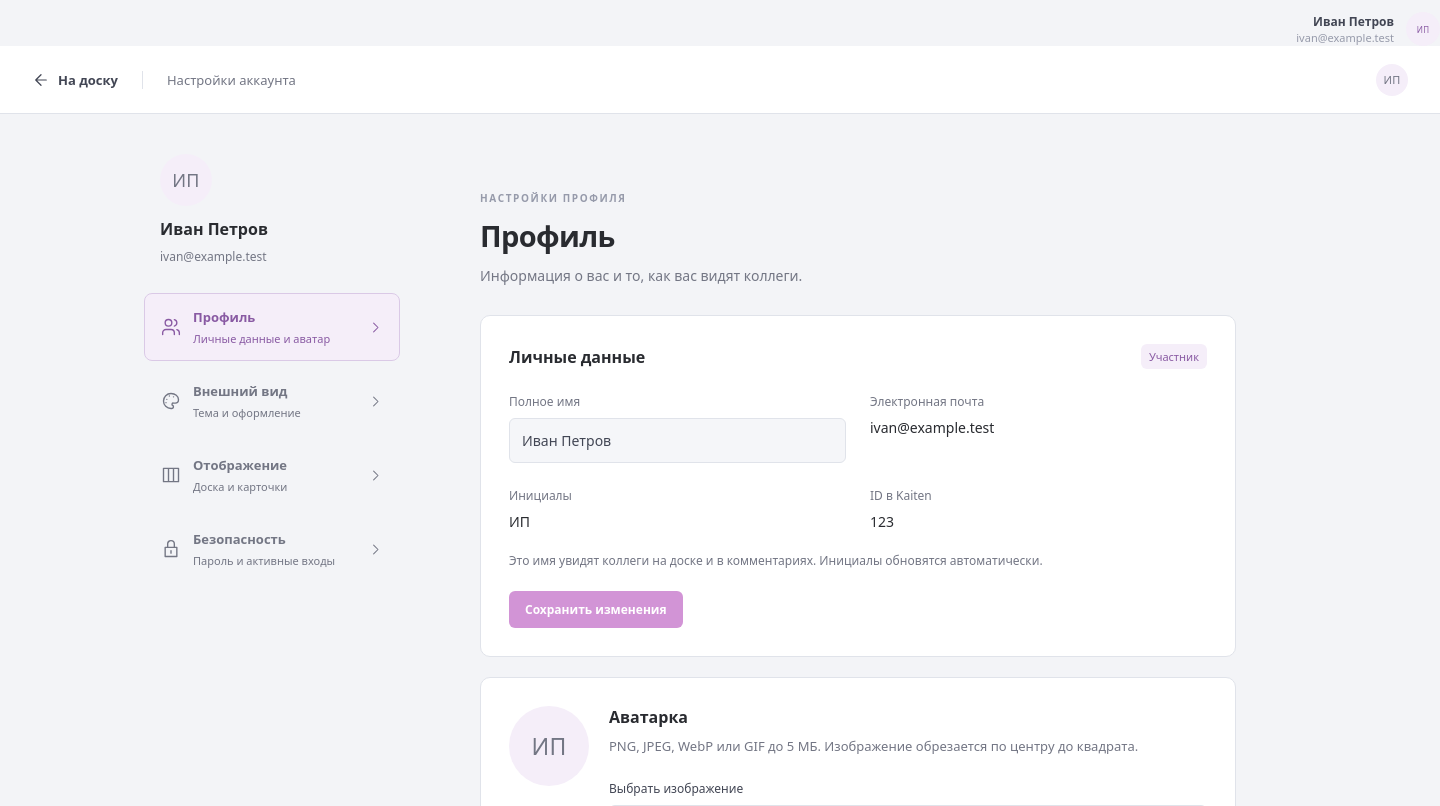
Test: saves the profile name and immediately updates the account menu
Expected: the button "Сохранить изменения" is disabled, 509,591 -> 683,628
Replace the text in the field labelled "Полное имя" with "  Анна   Петрова  " at point(678, 441), box 509,418 -> 846,463
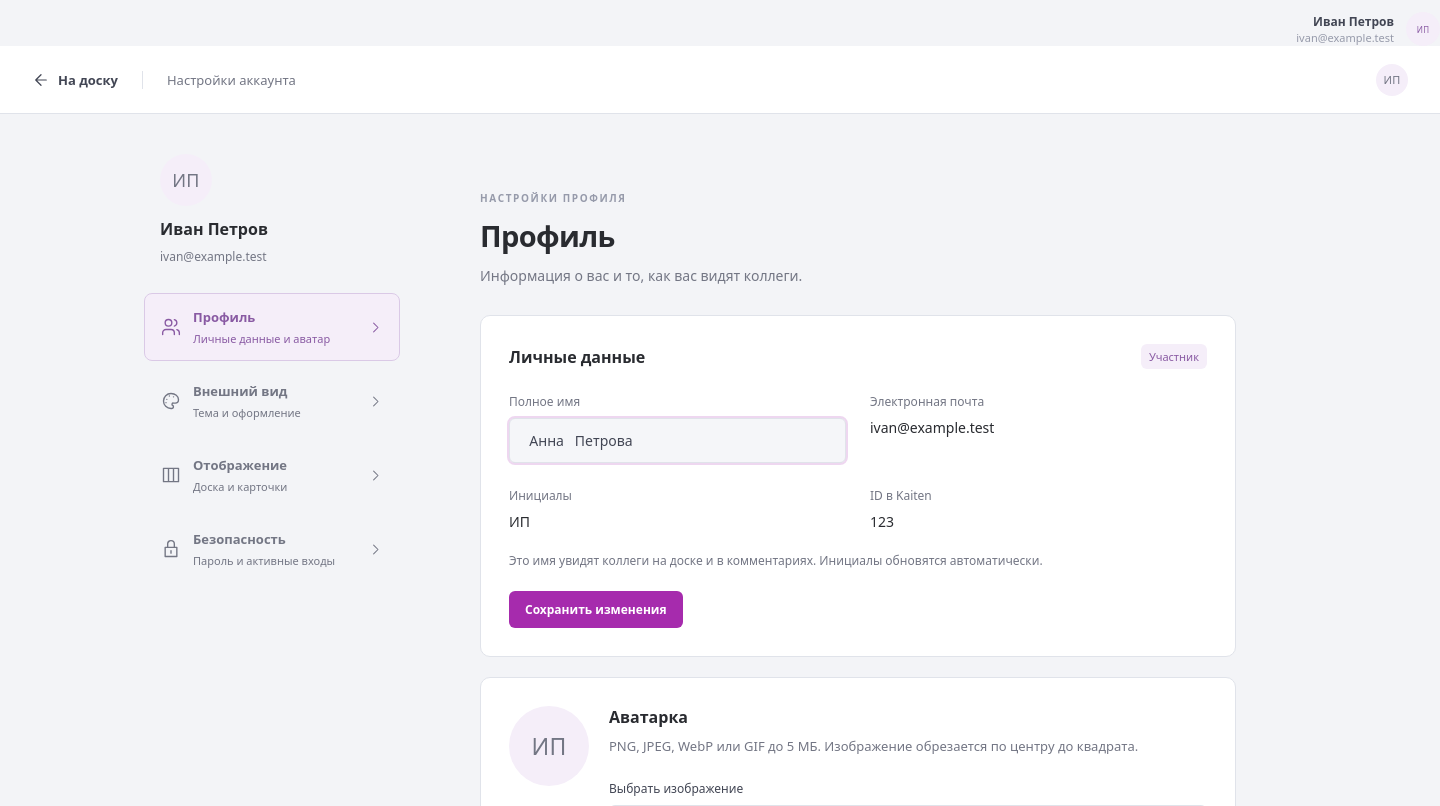
Click the button "Сохранить изменения" at point(596, 609), box 509,591 -> 683,628
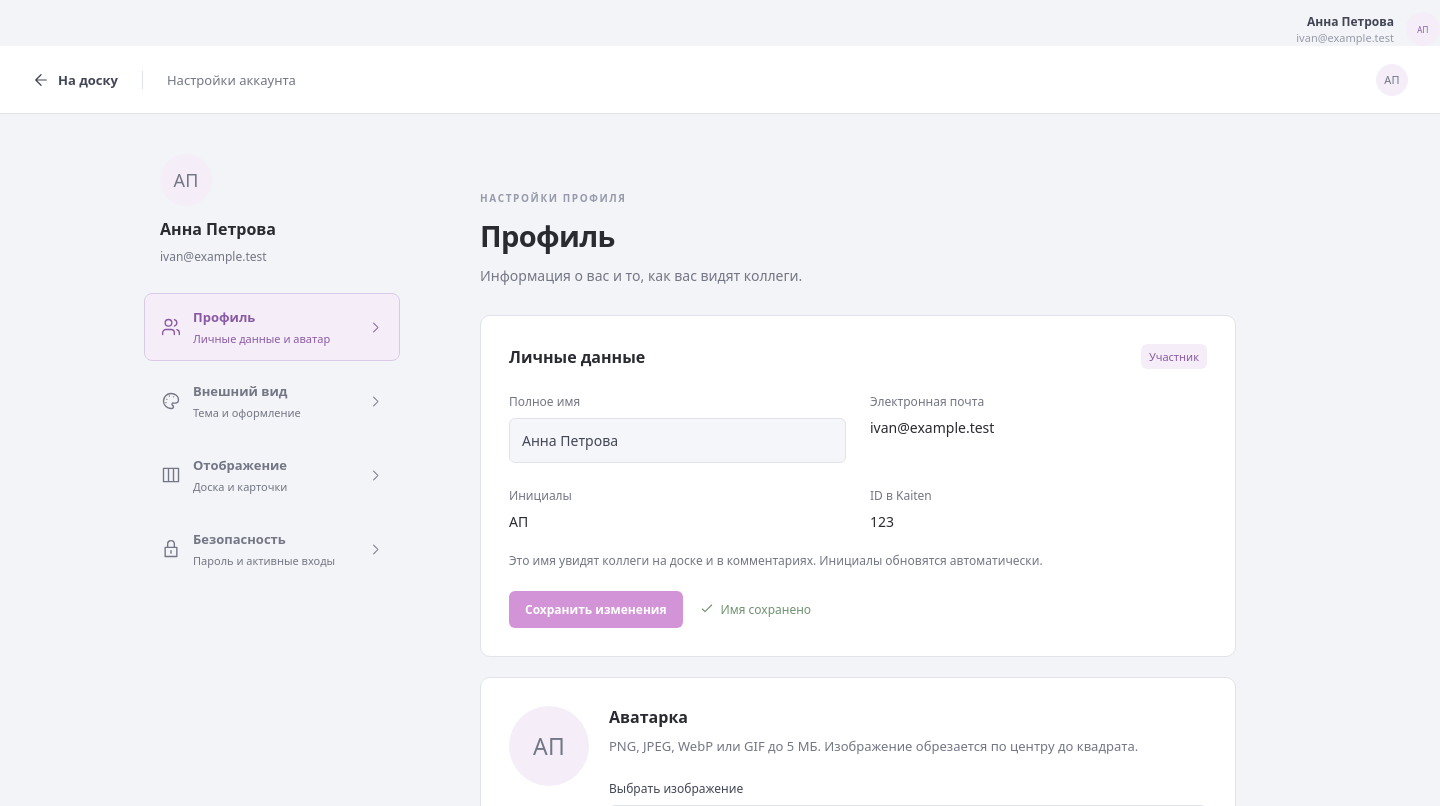
Now the message reads "Имя сохранено", box 721,601 -> 811,618
Now the heading named "Аккаунт: Анна Петрова" is shown, box 1296,12 -> 1439,46
Now the button "Сохранить изменения" is disabled, box 509,591 -> 683,628
